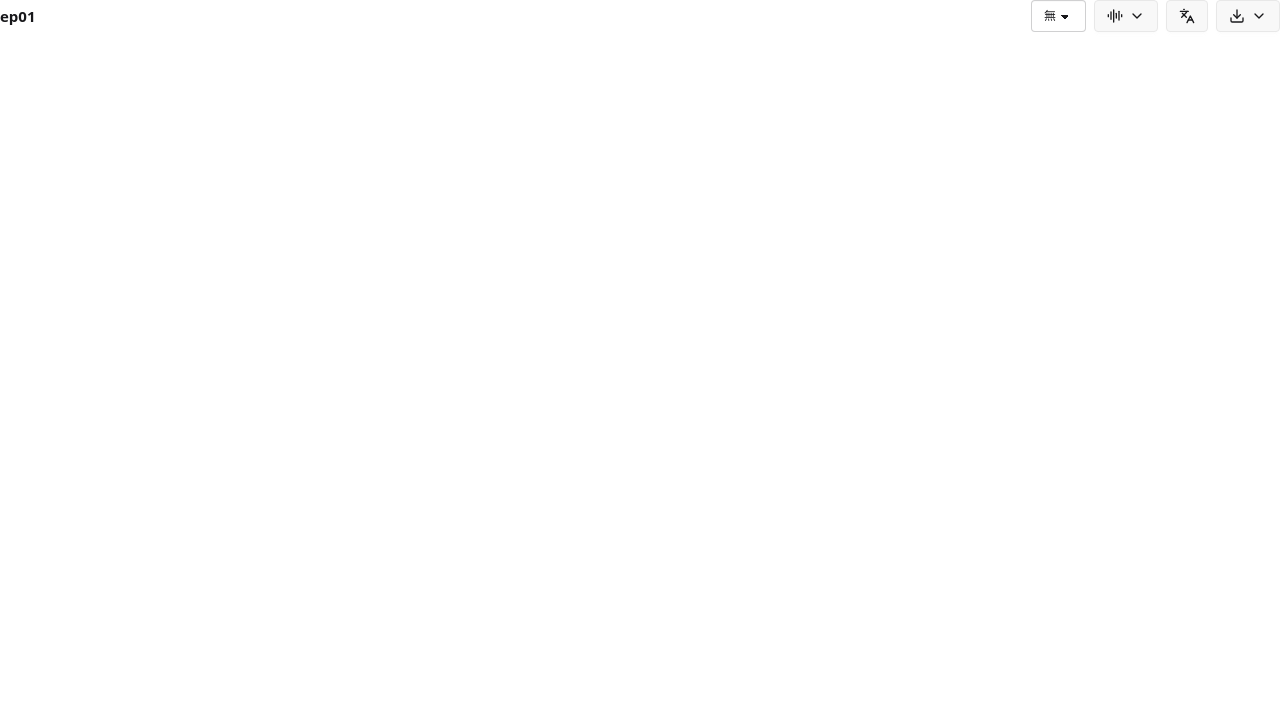
Scenario: TranslationDialog › names the Project's glossary.csv and its terms
Click the button named "翻譯". click: [1187, 16]
box: x1=1166 y1=0 x2=1208 y2=32
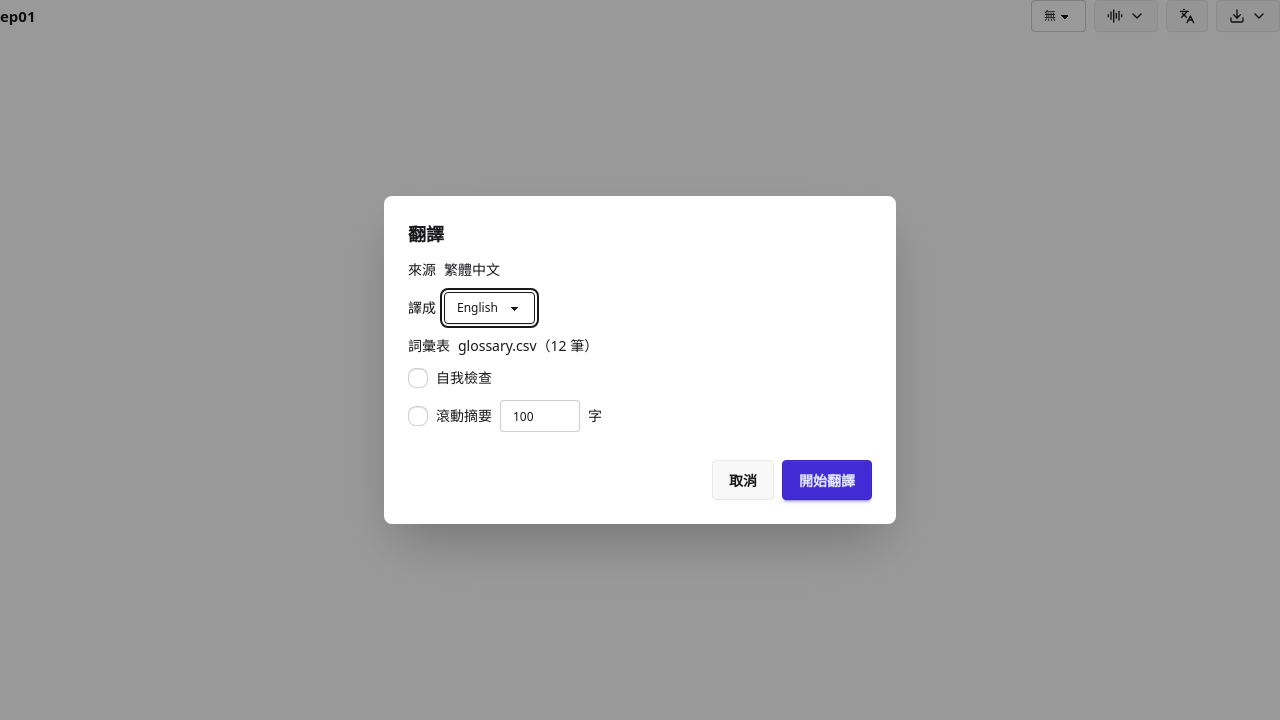
Expected: the text "glossary.csv（12 筆）" is shown, x1=458 y1=336 x2=598 y2=356
